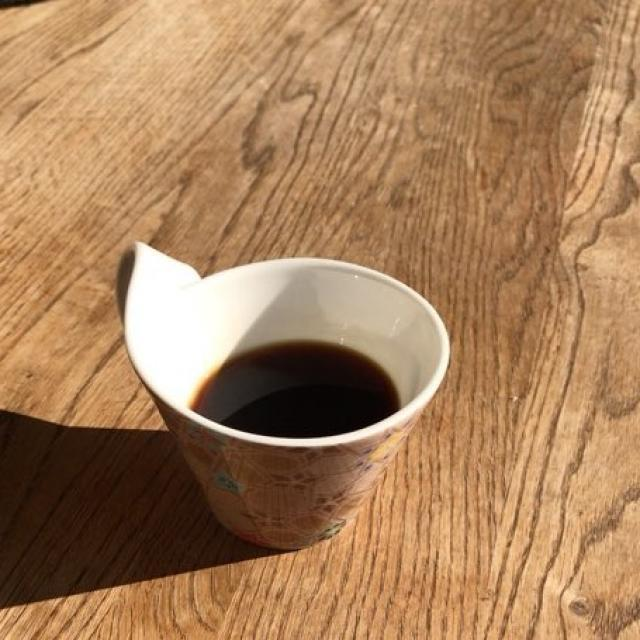coffee: (198, 340, 396, 435)
